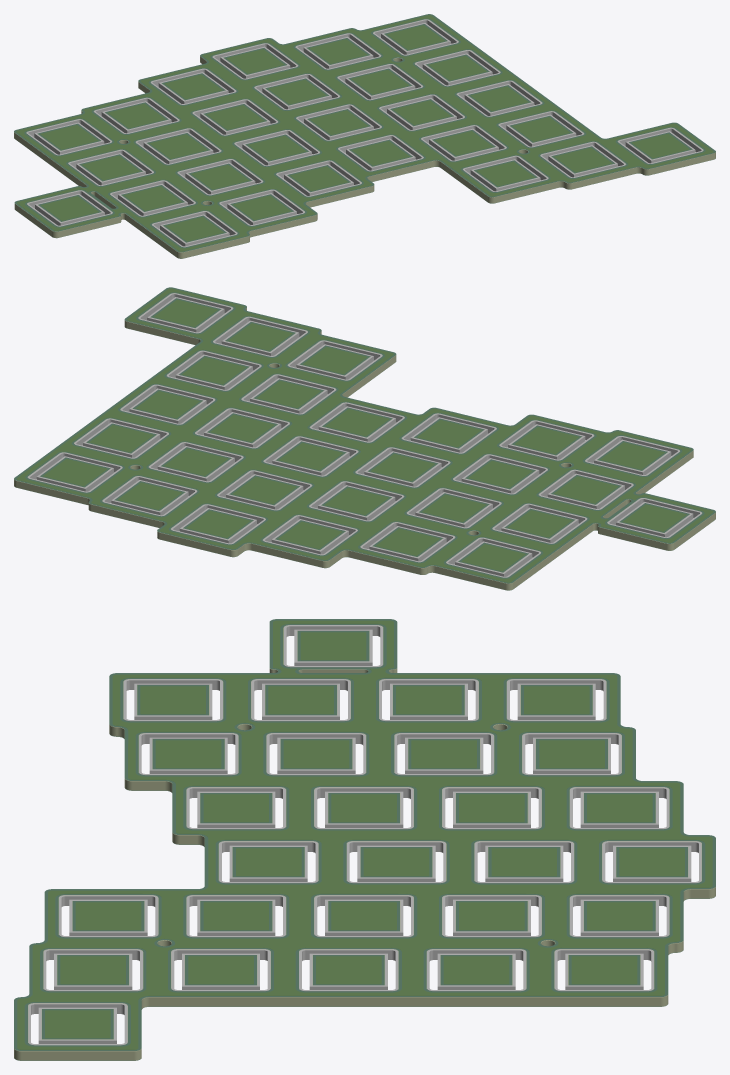
Rendered from board.glb.
3 renders of one model, top to bottom at view 1: azimuth 30°, elevation 25°; view 2: azimuth 150°, elevation 25°; view 3: azimuth 270°, elevation 25°, orthographic. The views are drawn at different scales.
Parts seen in each view (by area): view 1: board_soldermask (×2), board_copper, board_pad, board_PCB; view 2: board_soldermask (×2), board_copper, board_pad, board_PCB; view 3: board_soldermask (×2), board_copper, board_pad, board_PCB.
Boxes of the visible parts, x1=… form: board_soldermask (×2): x1=14, y1=14, x2=715, y2=258; board_copper: x1=17, y1=15, x2=712, y2=250; board_pad: x1=26, y1=19, x2=703, y2=247; board_PCB: x1=14, y1=15, x2=715, y2=258; board_soldermask (×2): x1=14, y1=287, x2=715, y2=590; board_copper: x1=17, y1=289, x2=712, y2=581; board_pad: x1=28, y1=293, x2=701, y2=577; board_PCB: x1=14, y1=288, x2=715, y2=590; board_soldermask (×2): x1=14, y1=619, x2=715, y2=1060; board_copper: x1=18, y1=621, x2=711, y2=1049; board_pad: x1=28, y1=625, x2=701, y2=1045; board_PCB: x1=14, y1=620, x2=715, y2=1060.
Bounding box in the file's own units: 0.1524 × 0.00161 × 0.1046.
